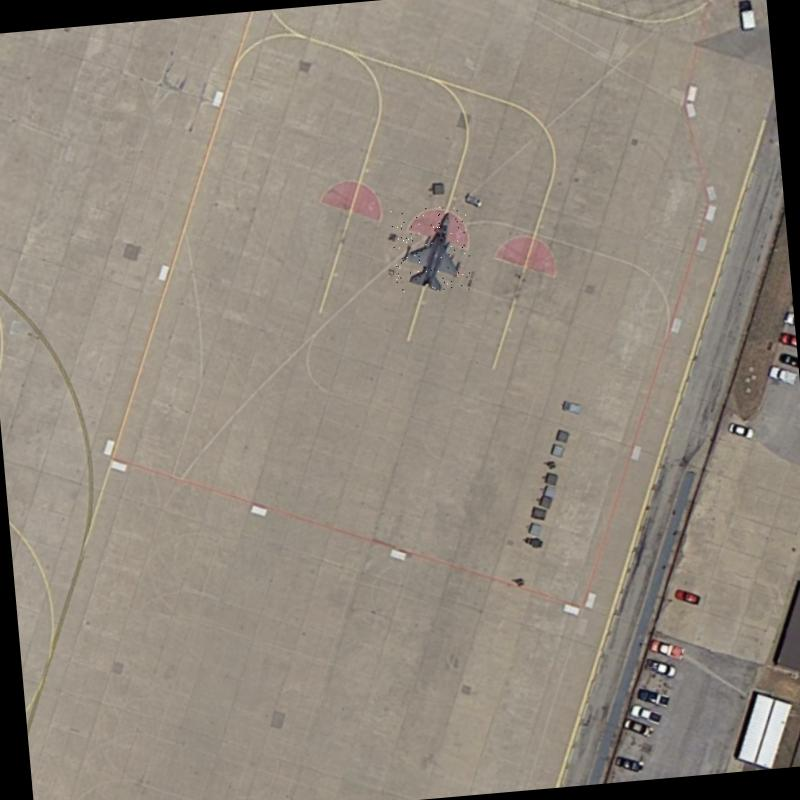A5: (390, 204, 473, 296)
